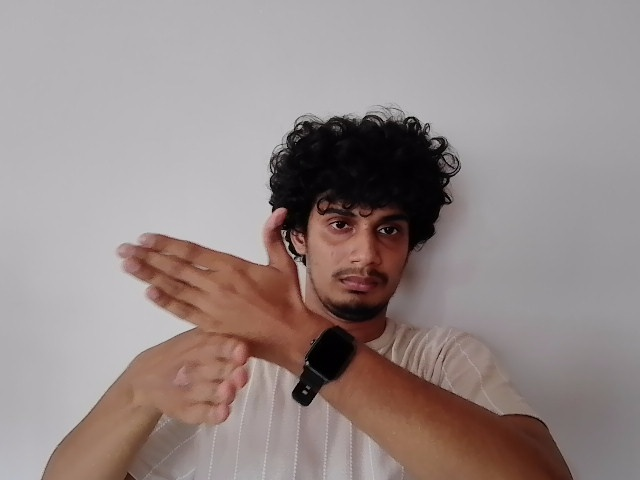busy: (117, 210, 298, 425)
